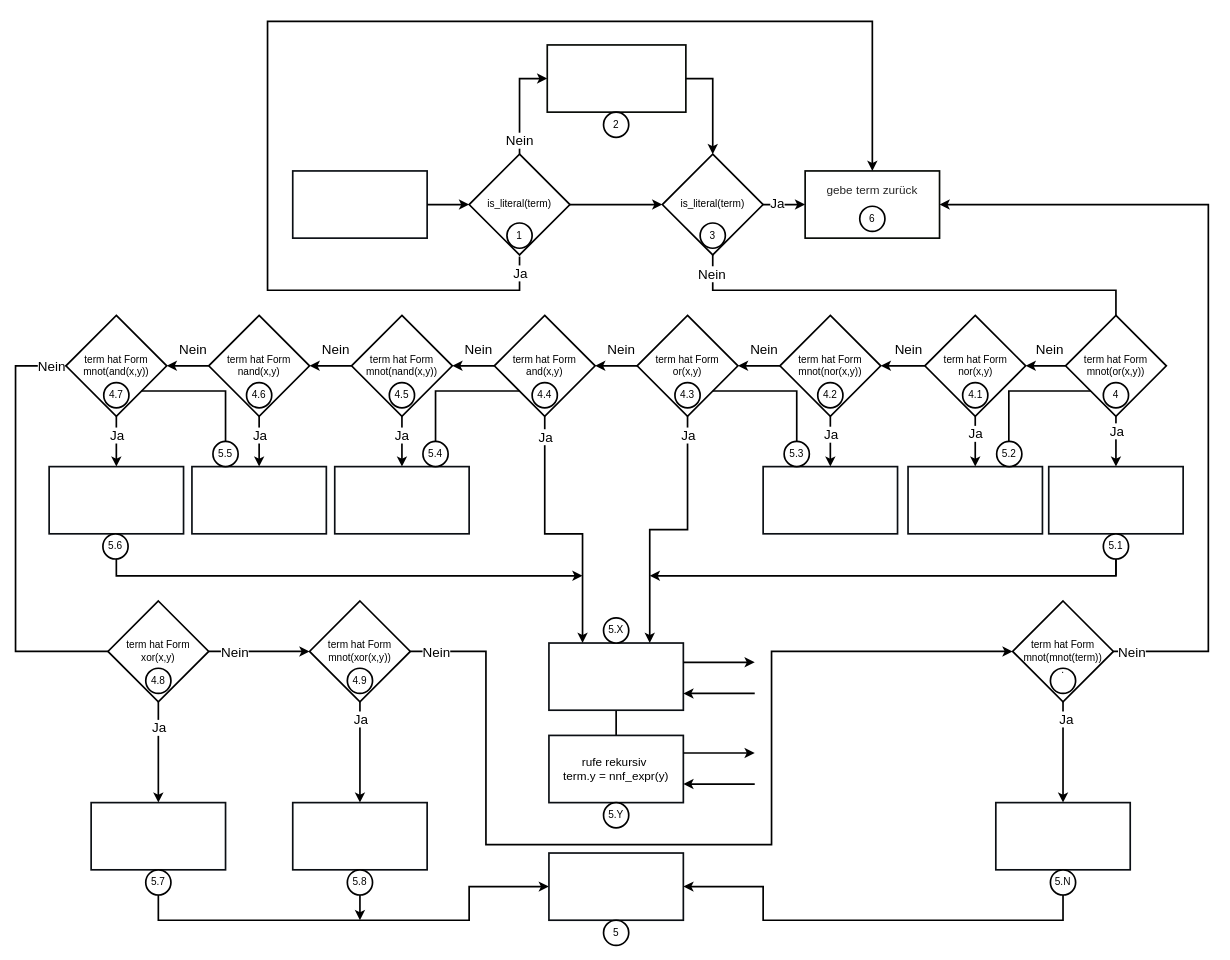
Some shapes in this 1230 by 960 pixel diagram are drawn without their labels. Each missing label, with the centre of its shape:
4.N: the point at 1062,680
lösche die doublet Negation und rufe nnf_expr(term) erneut auf: the point at 1063,835
nnf_expr(term): the point at 359,204
rufe rekursiv term = nnf_expr(term): the point at 616,886
rufe rekursiv term.x = nnf_expr(x): the point at 616,676
term = and(mnot(x),mnot(y)): the point at 1115,499
term = and(or(mnot(x), mnot(y)), or(x, y)): the point at 158,835
term = and(x,y): the point at 401,499
term = mnot(and(x,y)): the point at 259,499
term = mnot(or(x,y)): the point at 975,499
term = nand(or(mnot(x), mnot(y)), or(x, x)): the point at 359,835
term = or(mnot(x),mnot(y)): the point at 116,499
term = or(x,y): the point at 830,499
term = simplifyDef(term): the point at 616,78
